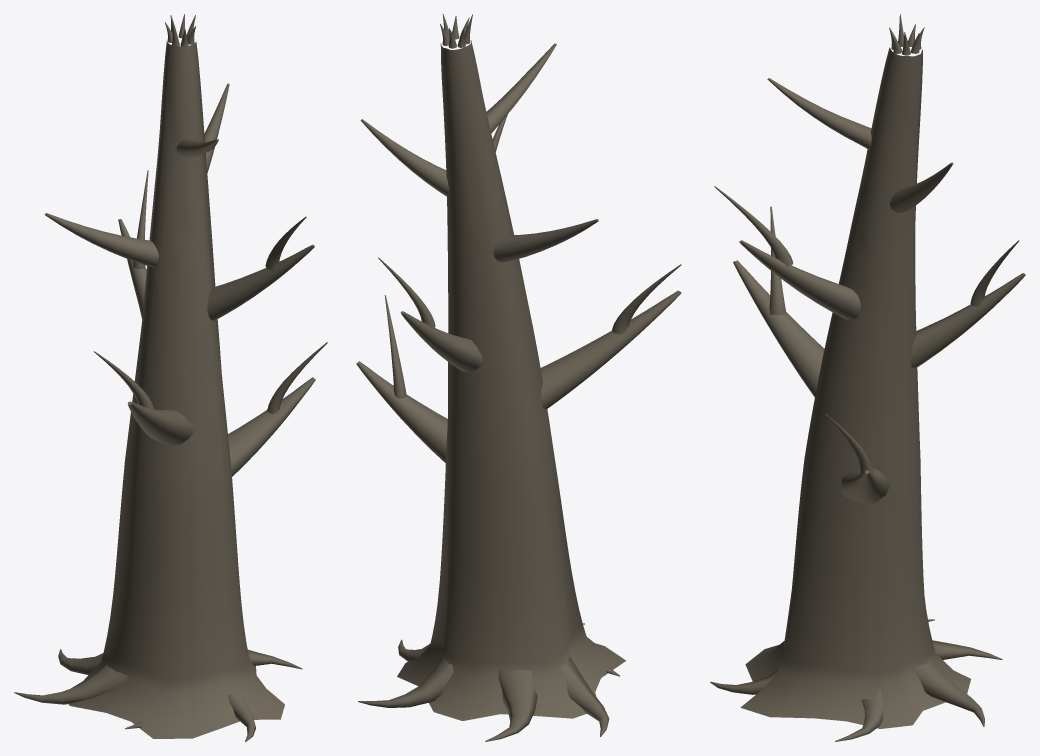
Rendered from corealm_deadwood_1.glb.
3 renders of one model, left to right at view 1: azimuth 30°, elevation 25°; view 2: azimuth 150°, elevation 25°; view 3: azimuth 270°, elevation 25°, orthographic. The views are drawn at different scales.
Parts seen in each view (by area): view 1: corealm_deadwood_1; view 2: corealm_deadwood_1; view 3: corealm_deadwood_1.
Boxes of the visible parts, x1,y1,x2,y2 form: corealm_deadwood_1: (14,14,327,741); corealm_deadwood_1: (356,14,681,741); corealm_deadwood_1: (710,14,1025,741).
Bounding box in the file's own units: 2.75 × 6.37 × 2.69.
